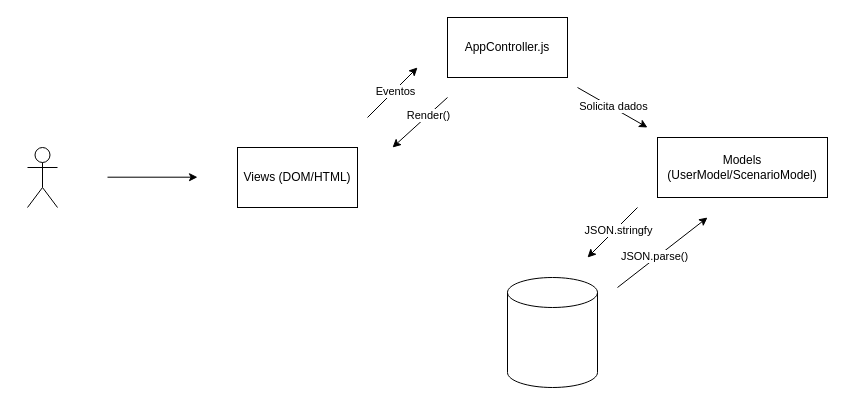
The diagram is 845 pixels wide and 405 high, and some of its shapes have lost their labels. Each missing label, with the centre of its shape:
LocalStorage: pixel 552 332
Utilizador: pixel 42 177
